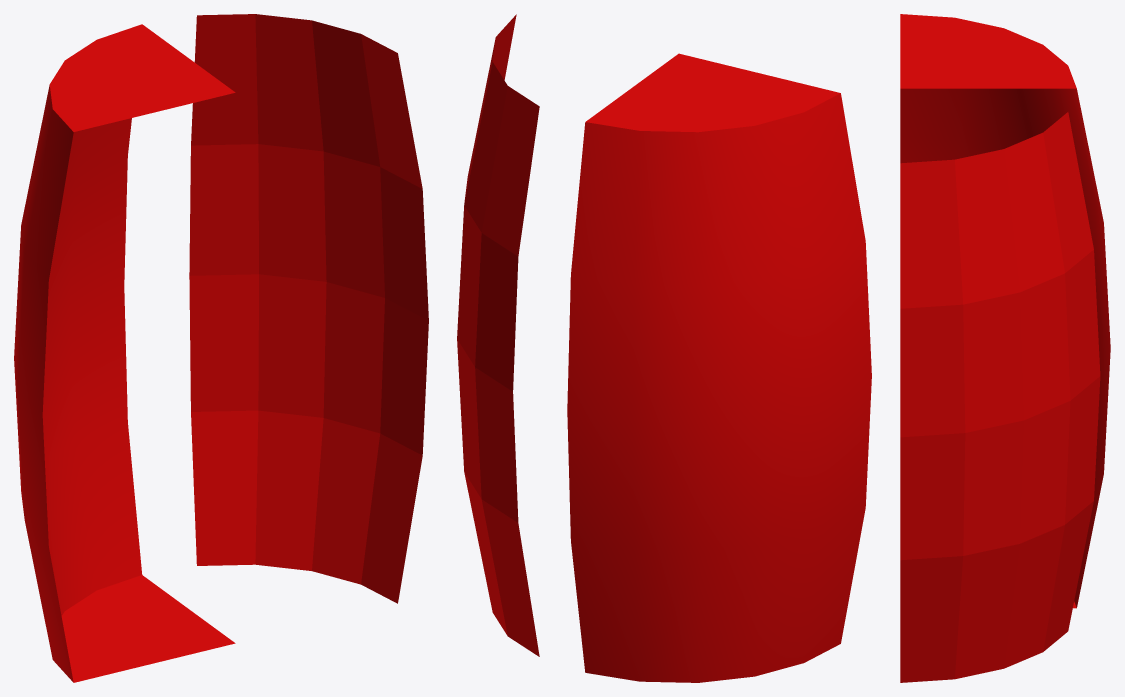
3 views of the same model, side by side, from view 1: azimuth 30°, elevation 25°; view 2: azimuth 150°, elevation 25°; view 3: azimuth 270°, elevation 25° (orthographic). The views are drawn at different scales.
Parts seen in each view (by area): view 1: mesh_phys_proxy; view 2: mesh_phys_proxy; view 3: mesh_phys_proxy.
Boxes of the visible parts, x1,y1,x2,y2 form: mesh_phys_proxy: (14, 14, 428, 682); mesh_phys_proxy: (457, 14, 871, 682); mesh_phys_proxy: (900, 14, 1110, 682).
Size of the model in its own units: 0.6768 by 0.9221 by 0.3384.
